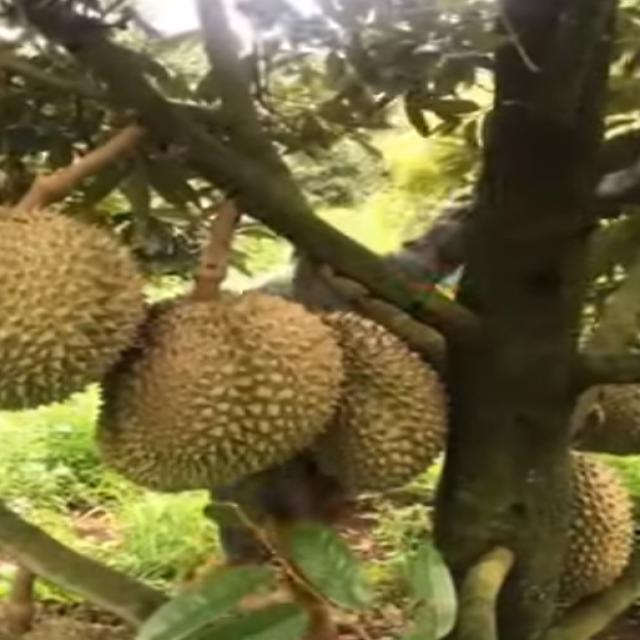mature: (114, 294, 352, 495), (279, 304, 458, 496), (0, 199, 152, 424)
